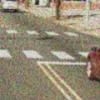crosswalks: (0, 47, 91, 61)
